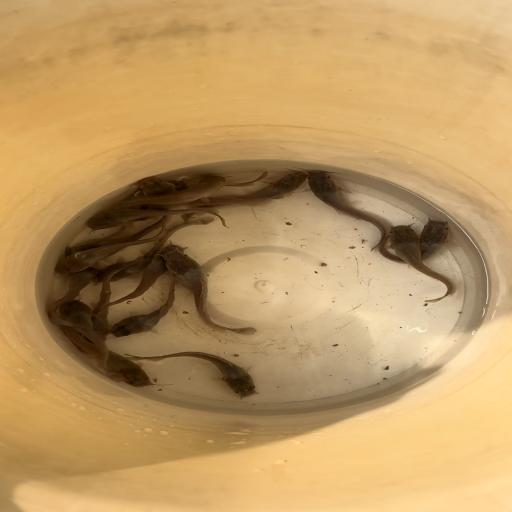lele: (162, 250, 258, 337), (96, 217, 217, 284), (302, 170, 389, 253), (56, 219, 174, 274), (126, 350, 256, 399), (55, 325, 152, 388), (384, 221, 457, 304), (99, 245, 186, 313), (106, 272, 185, 338), (62, 214, 176, 256), (82, 261, 139, 343), (60, 300, 116, 374), (118, 174, 226, 211), (208, 170, 309, 206), (376, 219, 453, 264), (80, 209, 230, 231), (46, 266, 98, 328), (172, 178, 229, 226), (133, 179, 182, 208)
